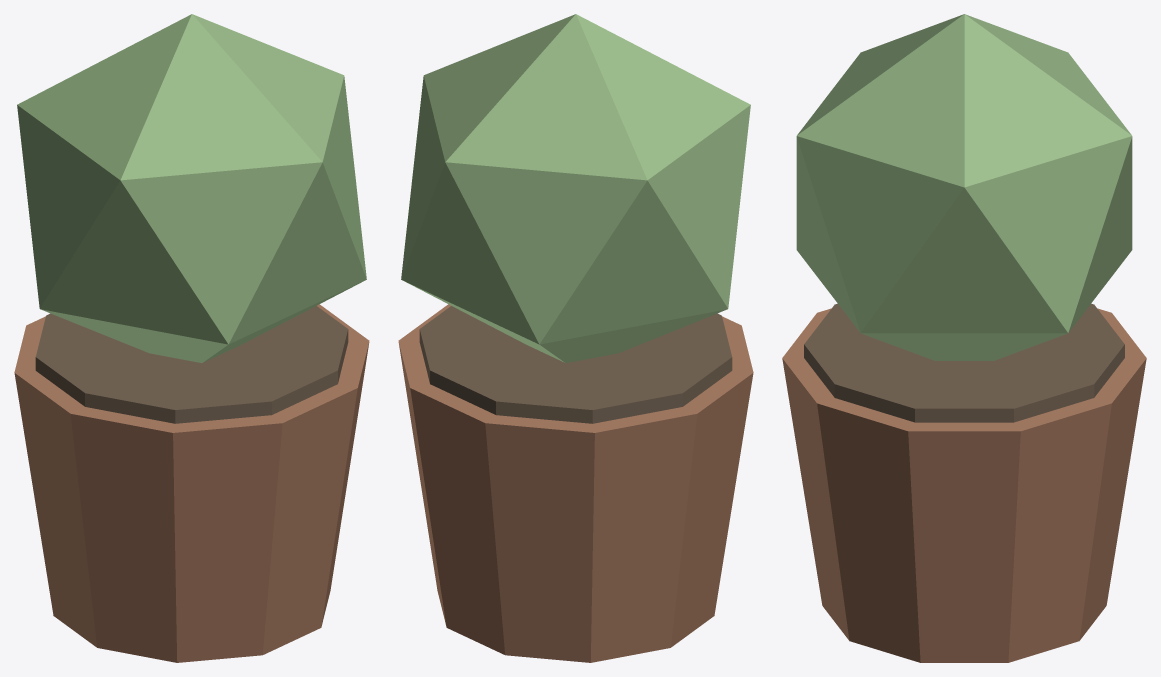
The model's file is pla_vaso_p1.glb.
The picture shows the model from 3 angles, left to right: view 1: azimuth 30°, elevation 25°; view 2: azimuth 150°, elevation 25°; view 3: azimuth 270°, elevation 25°; orthographic projection.
Parts seen in each view (by area): view 1: PLA_VASO_P1_v01; view 2: PLA_VASO_P1_v01; view 3: PLA_VASO_P1_v01.
Part boxes in pixels (x1,y1,x2,y2): PLA_VASO_P1_v01: (14, 14, 369, 662); PLA_VASO_P1_v01: (398, 14, 753, 662); PLA_VASO_P1_v01: (782, 14, 1146, 662).
Bounding box in the file's own units: 0.2326 × 0.43 × 0.24.
